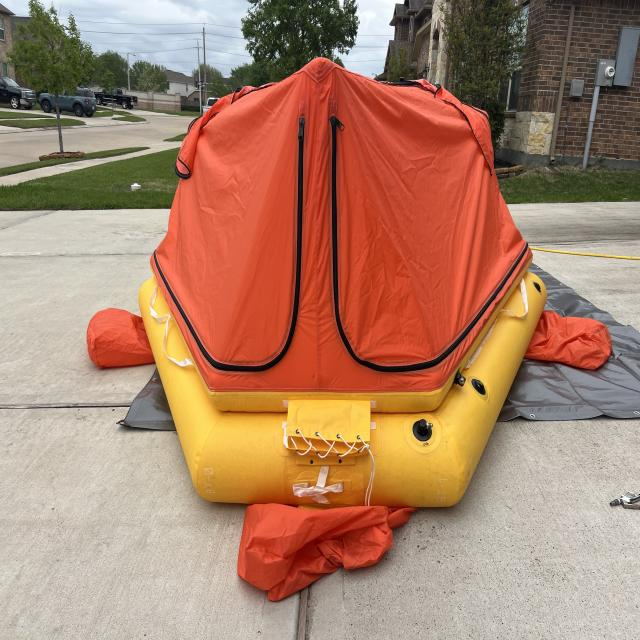Multi-person_life_raft: (87, 55, 611, 604)
